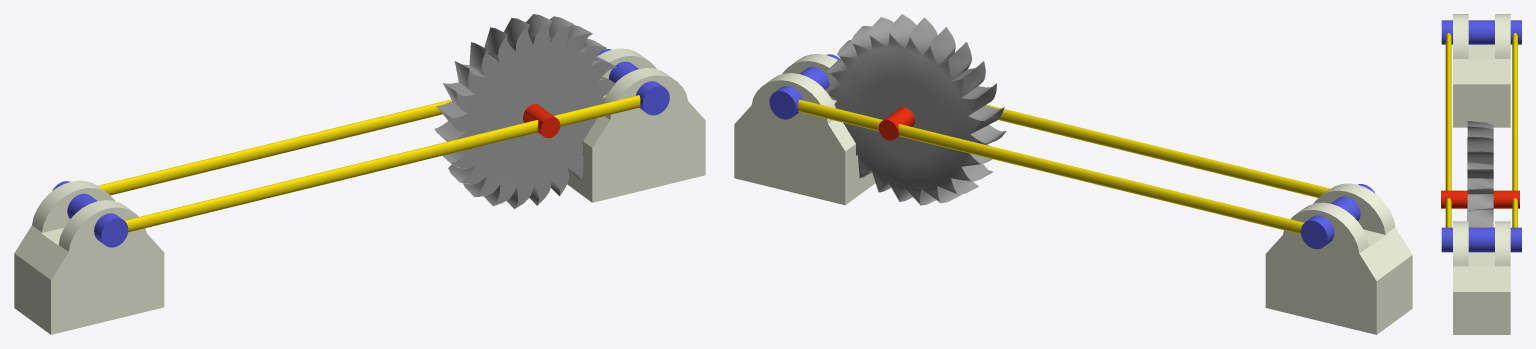
Rendered from MovingSaw.fbx.
3 renders of one model, left to right at view 1: azimuth 30°, elevation 25°; view 2: azimuth 150°, elevation 25°; view 3: azimuth 270°, elevation 25°, orthographic. The views are drawn at different scales.
Parts seen in each view (by area): view 1: Blade, Stage_Right, Stage_Left, Handles, Holder_Right, Holder_Left, BladeHolder; view 2: Blade, Stage_Right, Stage_Left, Handles, Holder_Right, Holder_Left, BladeHolder; view 3: Stage_Left, Stage_Right, Blade, Handles, Holder_Left, Holder_Right, BladeHolder.
Part boxes in pixels (<box>): Blade: <box>434,14,616,208</box>; Stage_Right: <box>14,180,164,334</box>; Stage_Left: <box>567,48,705,202</box>; Handles: <box>98,95,640,232</box>; Holder_Right: <box>52,181,128,247</box>; Holder_Left: <box>598,49,669,115</box>; BladeHolder: <box>523,104,560,138</box>; Blade: <box>825,14,1006,205</box>; Stage_Right: <box>1265,183,1412,334</box>; Stage_Left: <box>734,54,875,205</box>; Handles: <box>798,99,1330,234</box>; Holder_Right: <box>1300,184,1375,249</box>; Holder_Left: <box>769,54,839,119</box>; BladeHolder: <box>878,107,914,140</box>; Stage_Left: <box>1453,221,1510,334</box>; Stage_Right: <box>1453,14,1510,127</box>; Blade: <box>1467,121,1493,227</box>; Handles: <box>1445,33,1517,227</box>; Holder_Left: <box>1441,227,1521,252</box>; Holder_Right: <box>1441,20,1521,44</box>; BladeHolder: <box>1441,190,1519,208</box>.
Size of the model in its own units: 24.5 by 3.34 by 6.6.
